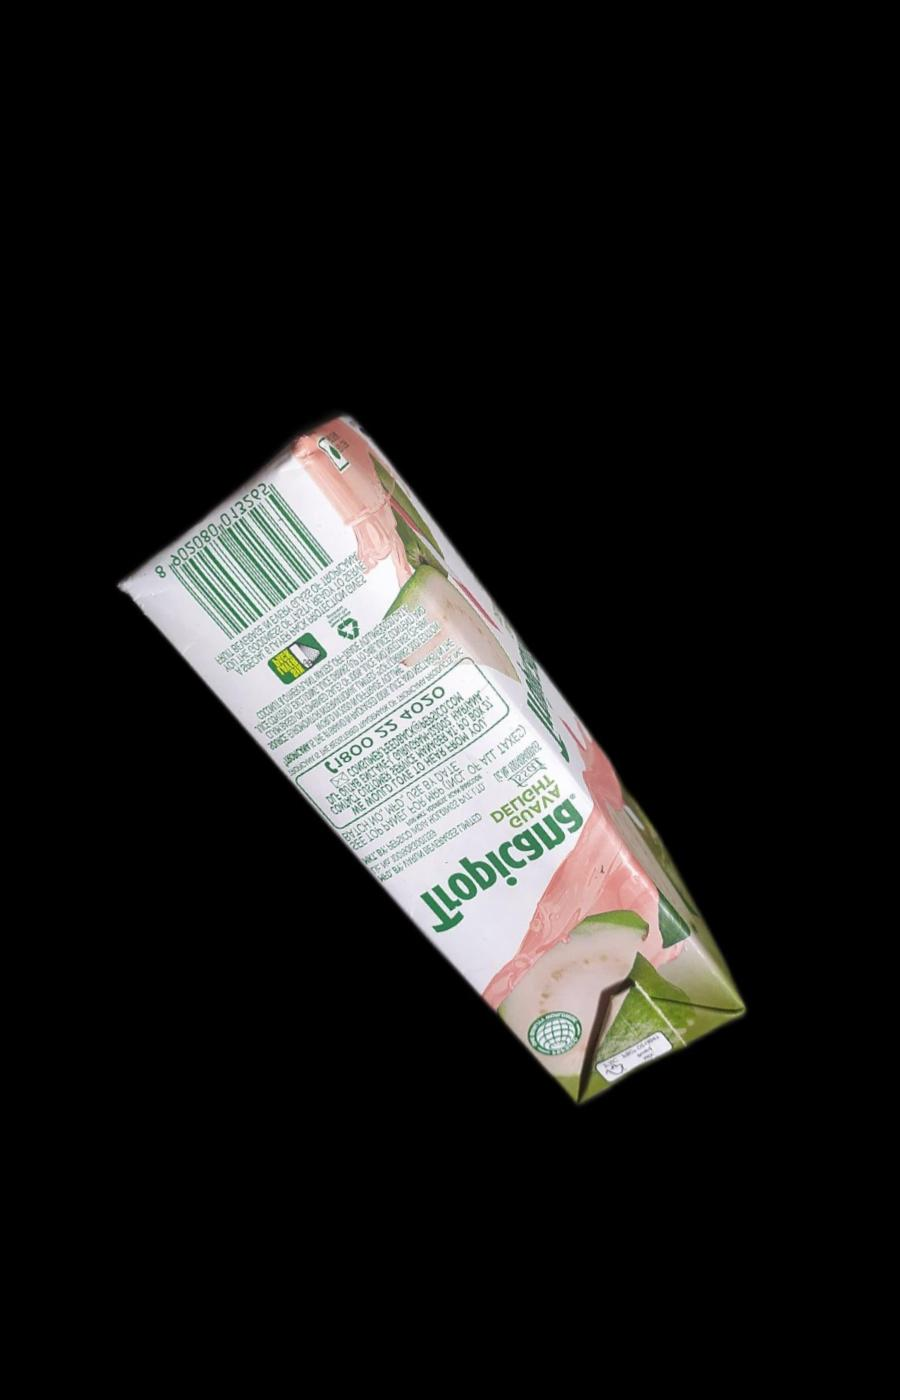Tropicana Fruit Juice - Delight Guava1 L: (96, 355, 757, 1187)
